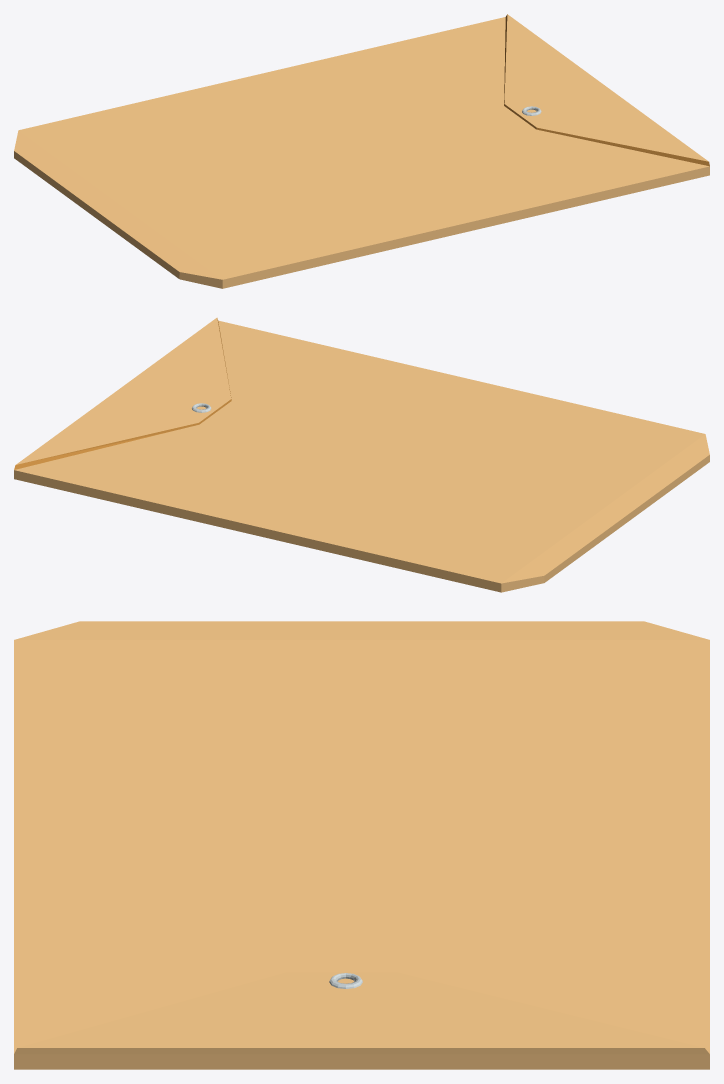
File: Manila Envelope.glb
3 renders of one model, top to bottom at view 1: azimuth 30°, elevation 25°; view 2: azimuth 150°, elevation 25°; view 3: azimuth 270°, elevation 25°, orthographic. The views are drawn at different scales.
Parts seen in each view (by area): view 1: Node; view 2: Node; view 3: Node.
Boxes of the visible parts, x1,y1,x2,y2 form: Node: (14,14,709,288); Node: (14,317,709,592); Node: (14,621,709,1069).
Bounding box in the file's own units: 2.37 × 0.0643 × 1.64.
